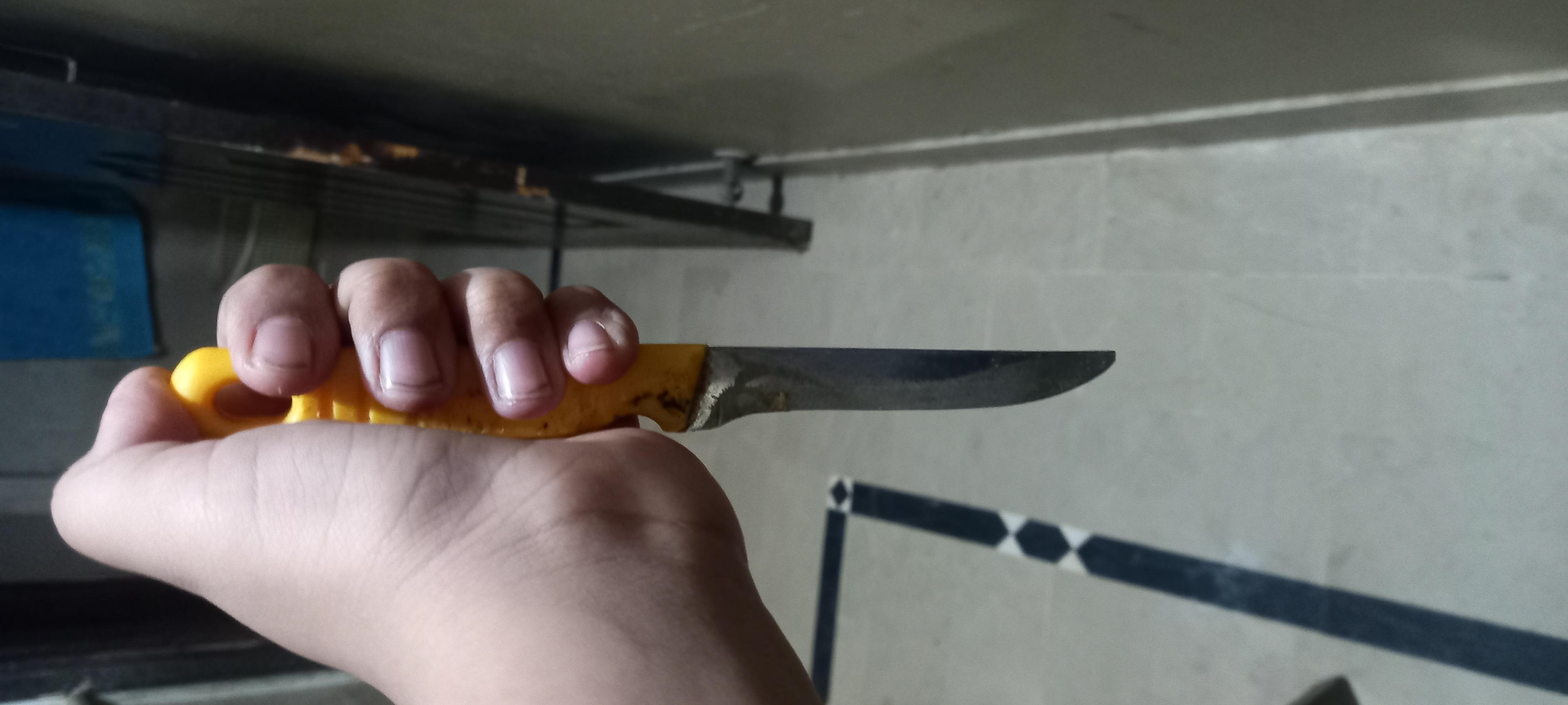knives: (484, 32, 1071, 520)
